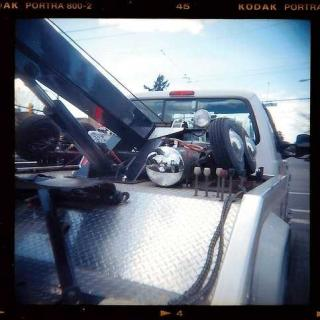Towing_truck: (7, 16, 309, 318)
